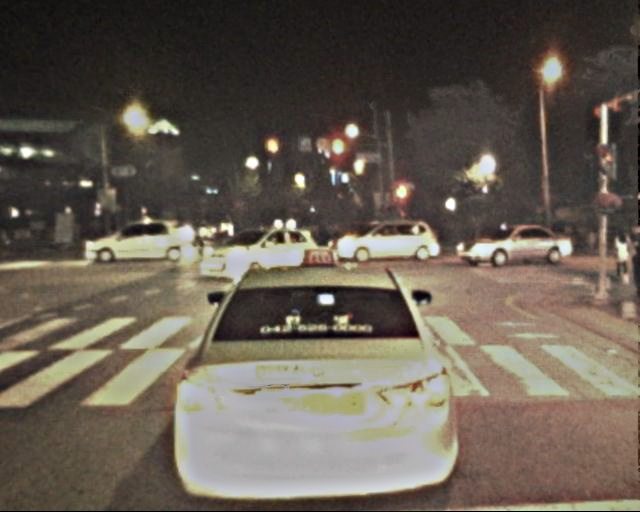person: (612, 228, 635, 283), (316, 219, 339, 254), (188, 213, 203, 249), (290, 218, 304, 251), (110, 221, 124, 254)
